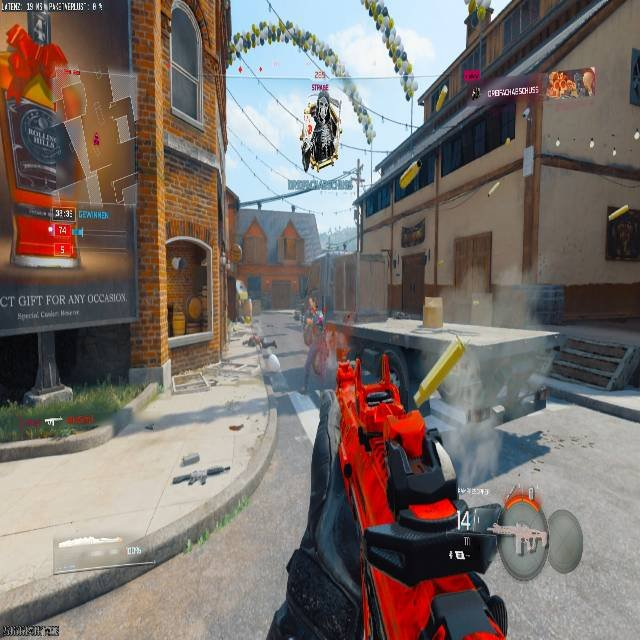player: (302, 88, 341, 170)
